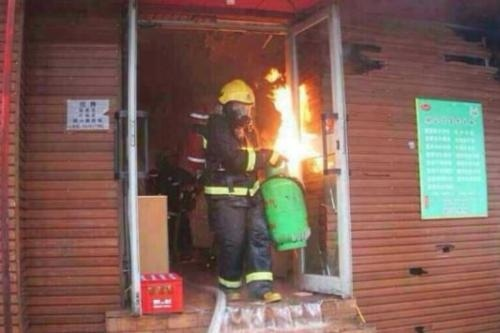fire: (265, 69, 321, 177)
